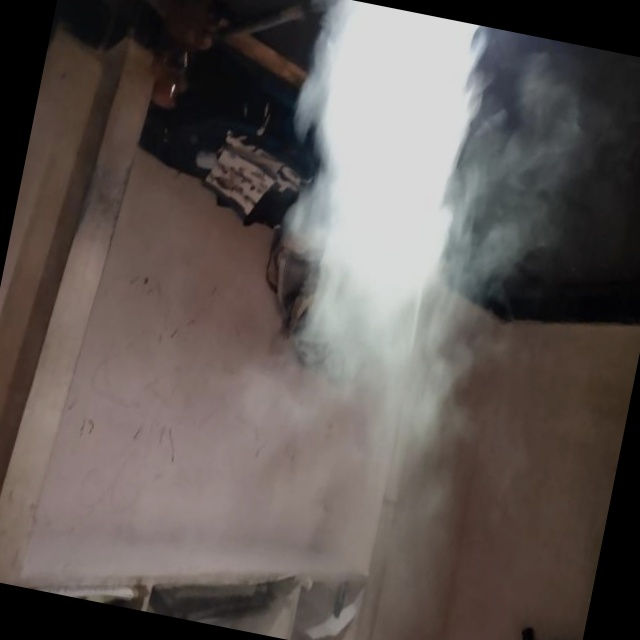smoke: (248, 0, 523, 388)
